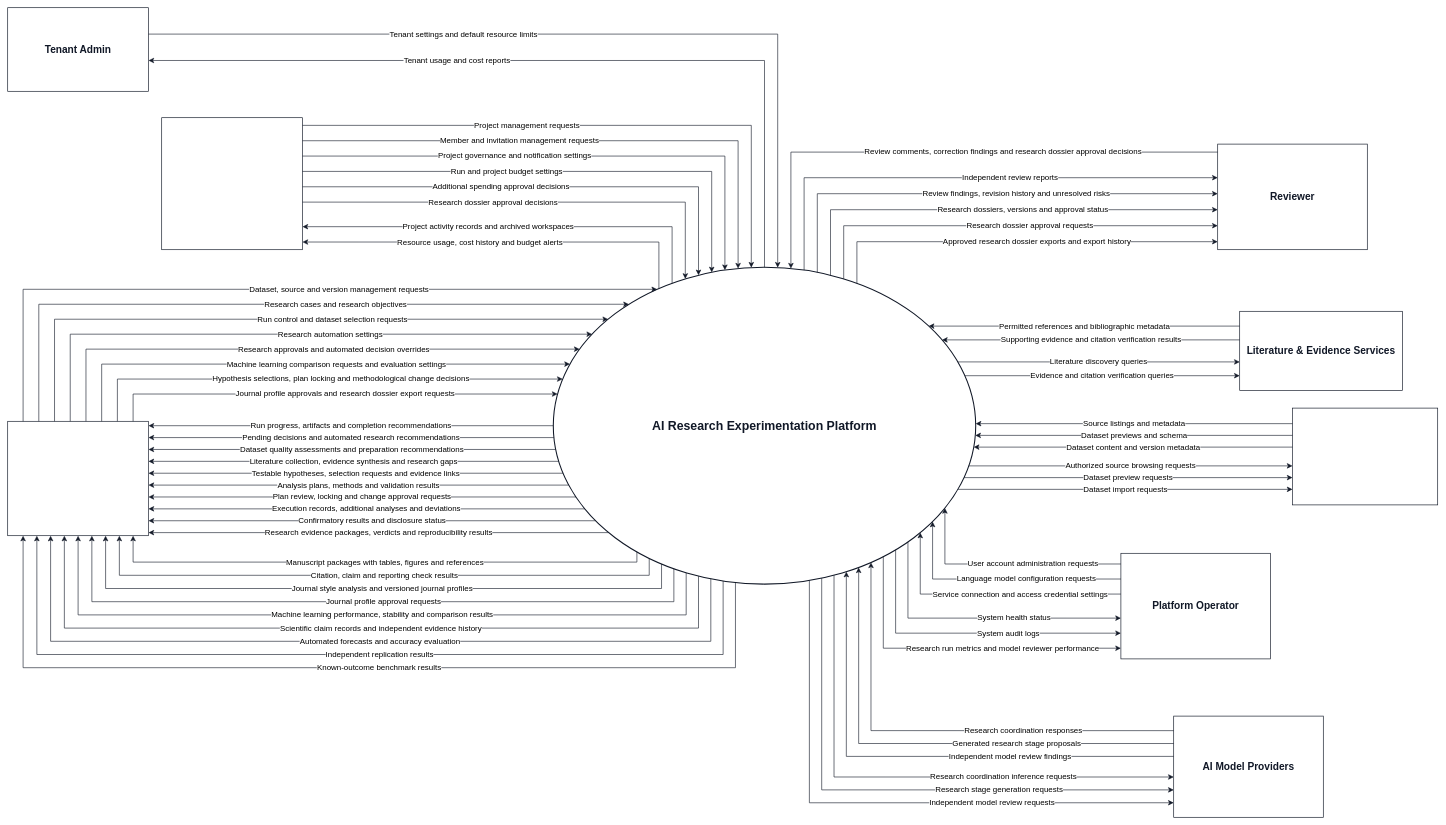
Some shapes in this 1446 by 825 pixel diagram are drawn without their labels. Here are the shapes that lost their labels. From the top down, the centre of each, then its label:
At point 232,183: "Project Manager".
At point 1365,456: "External Data Sources".
At point 78,478: "Researcher".
